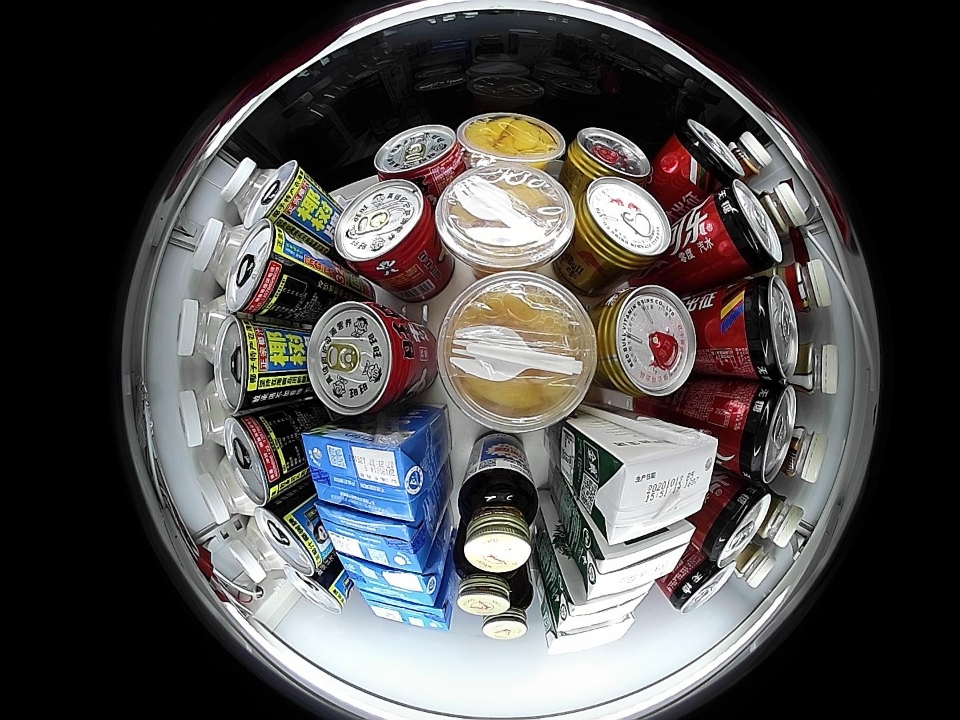hongniu: (595, 284, 697, 399), (566, 127, 652, 185)
hongniu2: (573, 176, 672, 274)
jindian: (589, 425, 719, 546), (579, 522, 697, 603), (554, 582, 652, 632), (545, 616, 636, 655)
kafei: (771, 257, 831, 314), (783, 341, 838, 396), (778, 424, 826, 484), (758, 181, 807, 239), (756, 489, 804, 548), (731, 539, 777, 589), (727, 131, 772, 181)
libaojian: (457, 467, 540, 572), (477, 575, 533, 641), (456, 560, 518, 616)
lingdukele: (719, 381, 796, 482), (729, 276, 800, 384), (703, 180, 784, 274), (697, 479, 772, 567), (664, 117, 743, 191), (664, 551, 736, 614)
wangzainiunai: (306, 300, 419, 417), (335, 179, 441, 286), (373, 123, 464, 190)
weitanai: (301, 421, 435, 522), (317, 501, 433, 573), (337, 554, 446, 606), (360, 589, 454, 631)
weiweidounai: (196, 456, 257, 524), (177, 382, 234, 449), (176, 297, 232, 364), (192, 218, 246, 286), (228, 517, 282, 582), (220, 156, 266, 220)
xianguolao: (437, 272, 598, 432), (435, 165, 577, 273), (457, 111, 565, 171)
yezhi: (225, 219, 295, 317), (224, 411, 292, 504), (255, 501, 330, 578), (216, 317, 276, 411), (249, 160, 308, 227), (284, 563, 351, 615)
